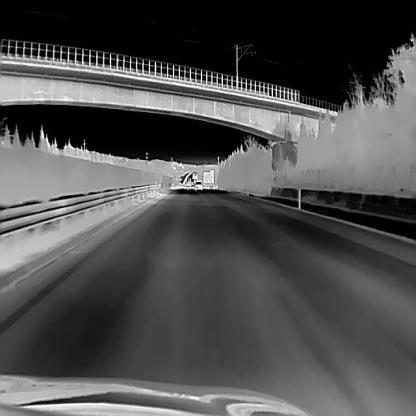car: (193, 180, 203, 190), (183, 180, 191, 190)
